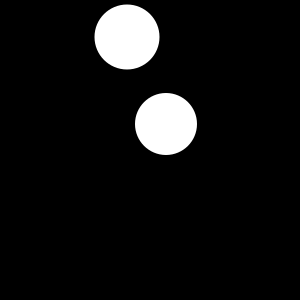rectangle: (94, 4, 160, 70), (135, 93, 197, 155)
